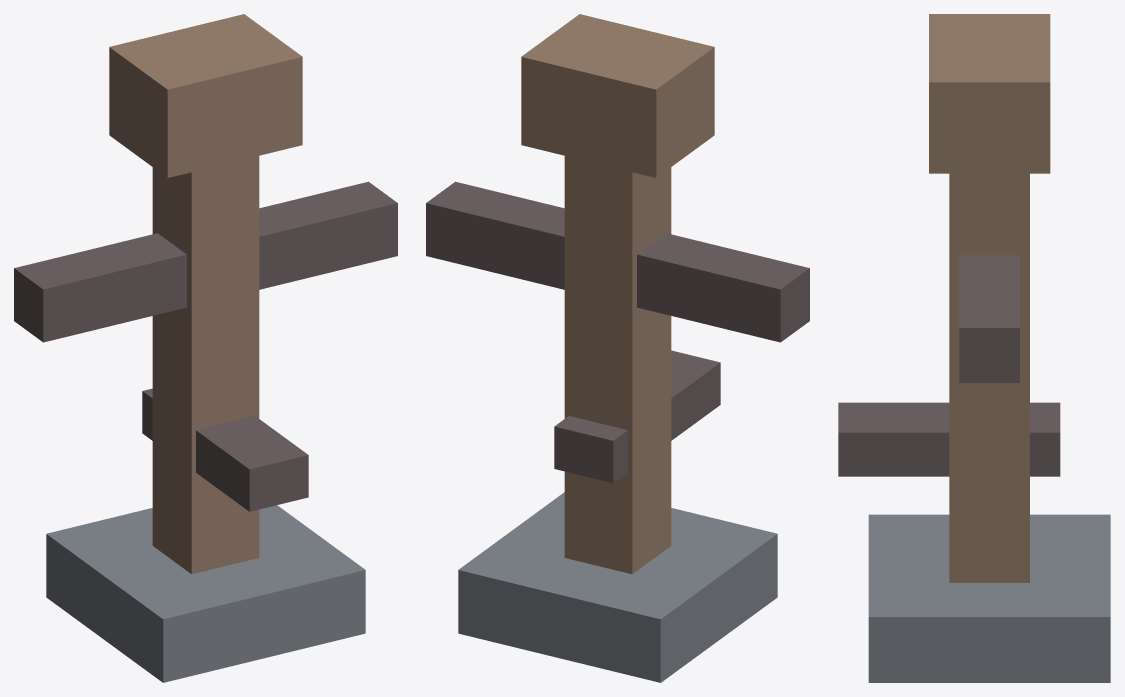
The model's file is practice_dummy.glb.
3 views of the same model, side by side, from view 1: azimuth 30°, elevation 25°; view 2: azimuth 150°, elevation 25°; view 3: azimuth 270°, elevation 25° (orthographic). The views are drawn at different scales.
Visible parts, largest first — view 1: practice_dummy_00_plinth, practice_dummy_01_trunk, practice_dummy_04_head, practice_dummy_02_crossarm, practice_dummy_03_low_arm; view 2: practice_dummy_01_trunk, practice_dummy_00_plinth, practice_dummy_04_head, practice_dummy_02_crossarm, practice_dummy_03_low_arm; view 3: practice_dummy_00_plinth, practice_dummy_01_trunk, practice_dummy_04_head, practice_dummy_03_low_arm, practice_dummy_02_crossarm.
Part boxes in pixels (x1=…): practice_dummy_00_plinth: x1=46, y1=505, x2=365, y2=682; practice_dummy_01_trunk: x1=152, y1=156, x2=259, y2=574; practice_dummy_04_head: x1=109, y1=14, x2=302, y2=177; practice_dummy_02_crossarm: x1=14, y1=181, x2=397, y2=342; practice_dummy_03_low_arm: x1=142, y1=388, x2=308, y2=511; practice_dummy_01_trunk: x1=564, y1=156, x2=671, y2=574; practice_dummy_00_plinth: x1=458, y1=492, x2=777, y2=682; practice_dummy_04_head: x1=521, y1=14, x2=714, y2=177; practice_dummy_02_crossarm: x1=426, y1=181, x2=809, y2=342; practice_dummy_03_low_arm: x1=554, y1=350, x2=720, y2=483; practice_dummy_00_plinth: x1=868, y1=514, x2=1110, y2=682; practice_dummy_01_trunk: x1=949, y1=173, x2=1029, y2=582; practice_dummy_04_head: x1=929, y1=14, x2=1050, y2=173; practice_dummy_03_low_arm: x1=838, y1=402, x2=1060, y2=476; practice_dummy_02_crossarm: x1=959, y1=255, x2=1019, y2=382.
Bounding box in the file's own units: 2.1 × 3.19 × 1.35.
